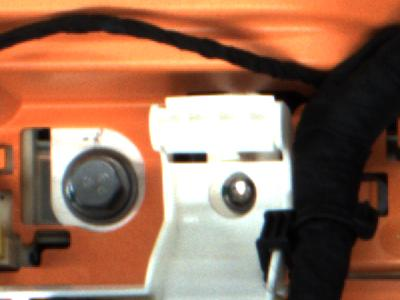nut_b: (59, 150, 141, 227)
